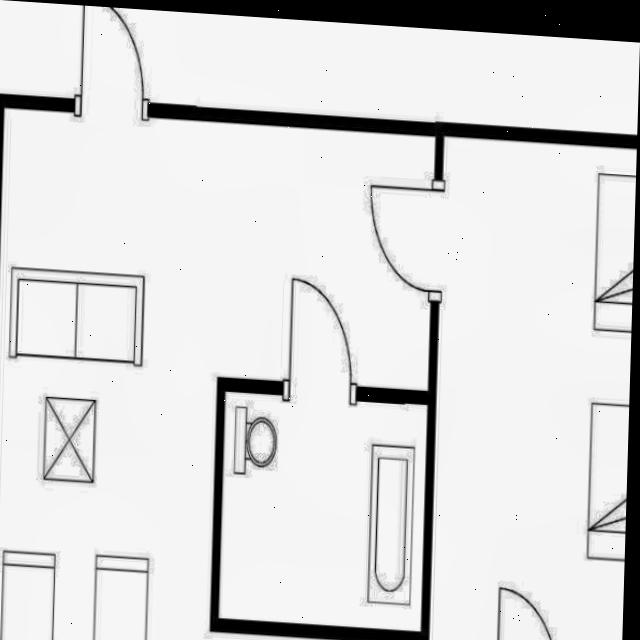room: (0, 108, 436, 640), (429, 137, 637, 640), (219, 392, 428, 632)
